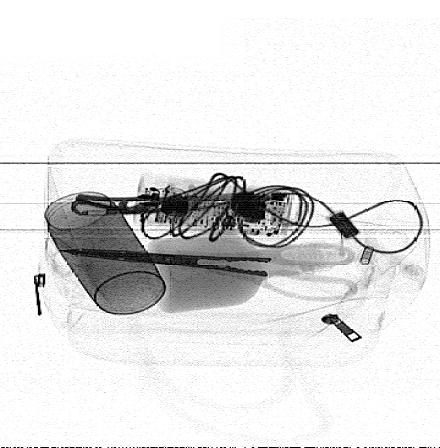Knife: (68, 190, 261, 216)
Scissors: (56, 242, 360, 302)
